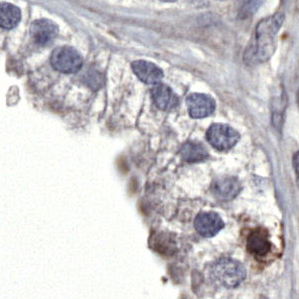Lymphocyte: (246, 223, 280, 266)
